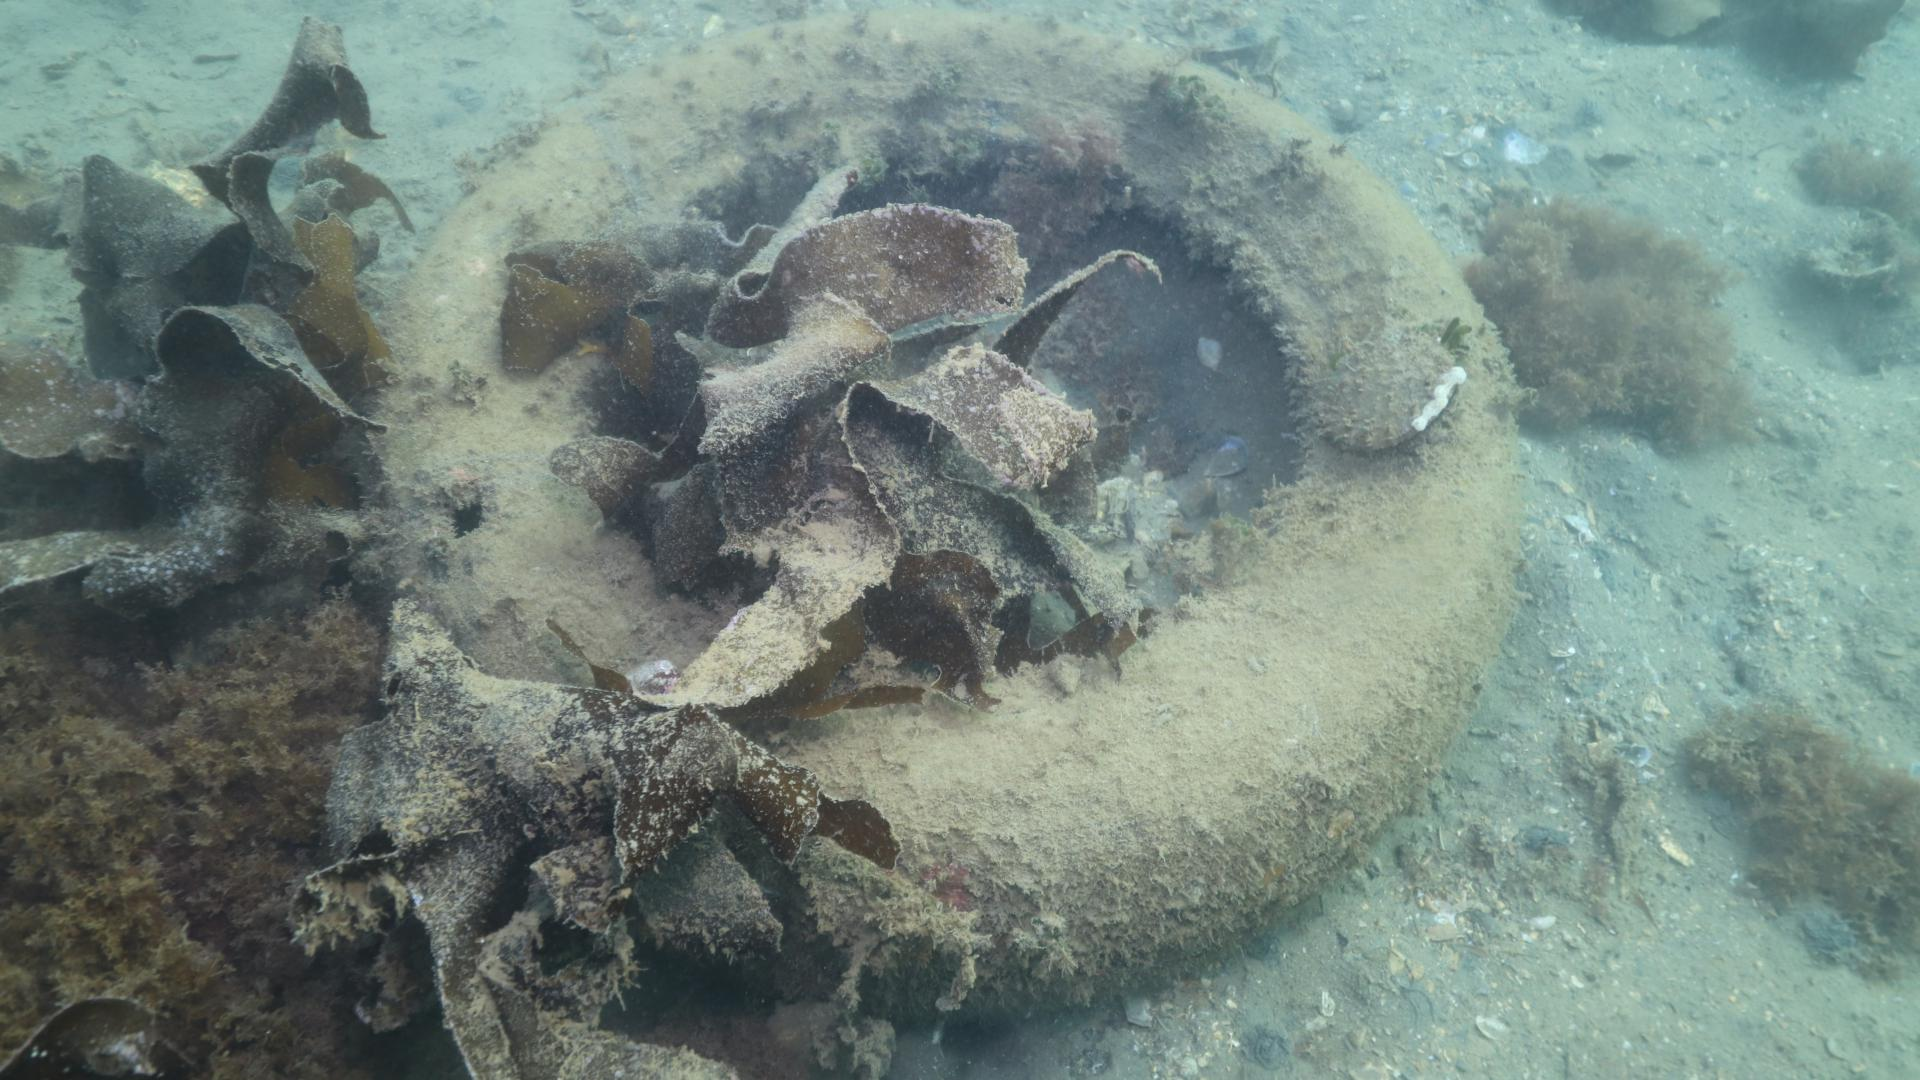tire: (369, 7, 1522, 980)
